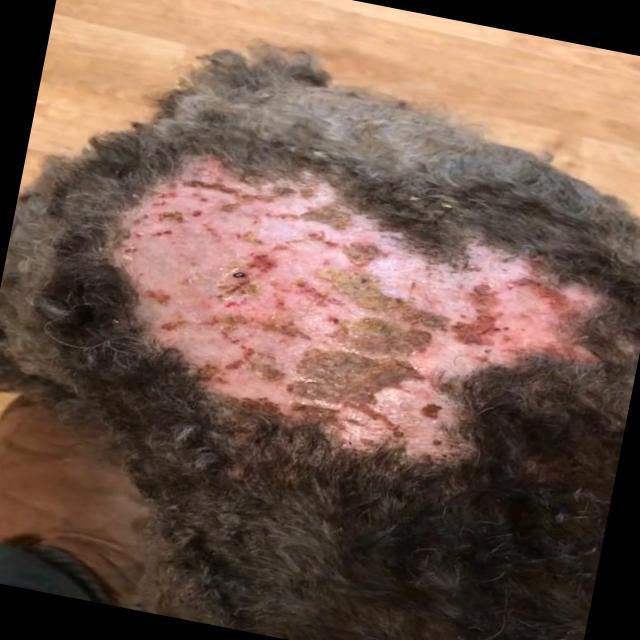allergic dermatitis: (114, 156, 598, 463)
